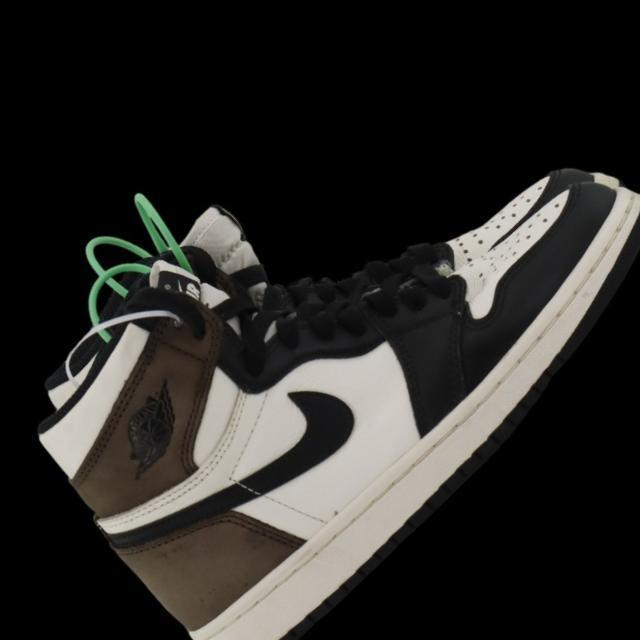nike original jordan 1: (0, 0, 640, 640), (17, 0, 629, 578)
